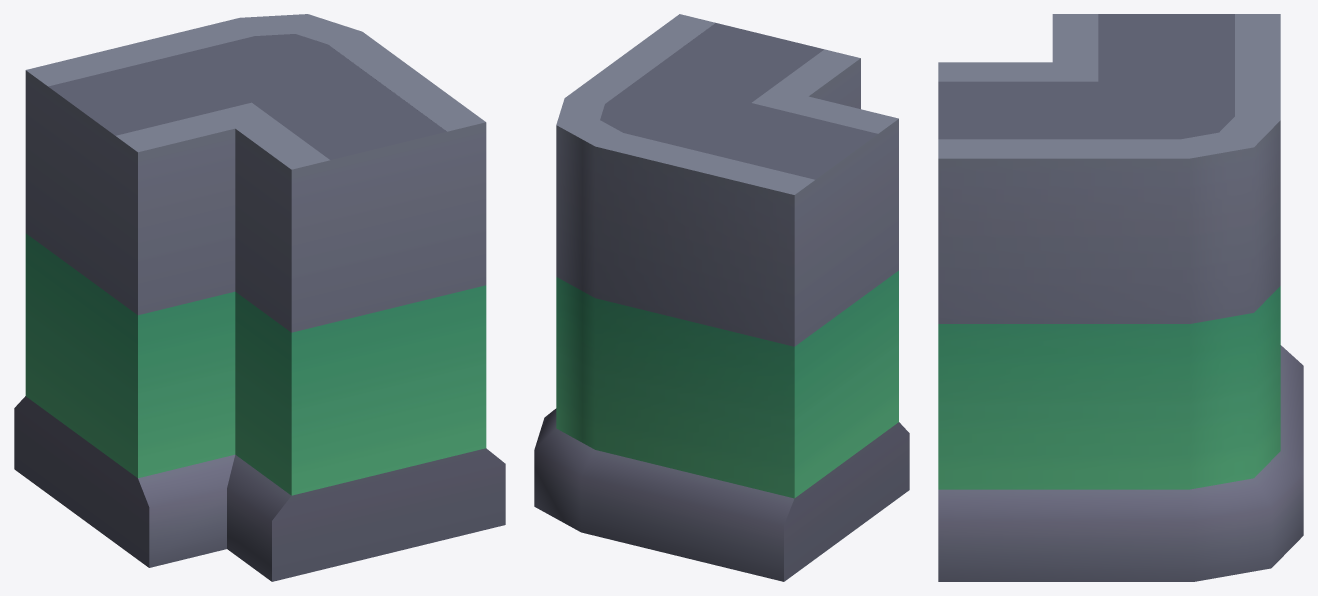
The model's file is wall-corner.glb.
3 renders of one model, left to right at view 1: azimuth 30°, elevation 25°; view 2: azimuth 150°, elevation 25°; view 3: azimuth 270°, elevation 25°, orthographic. The views are drawn at different scales.
Parts seen in each view (by area): view 1: wall-corner; view 2: wall-corner; view 3: wall-corner.
Boxes of the visible parts, x1,y1,x2,y2 form: wall-corner: (14, 14, 505, 581); wall-corner: (534, 14, 909, 581); wall-corner: (938, 14, 1303, 581).
Size of the model in its own units: 0.8 by 1 by 0.8.
1 material, 1 textured.
